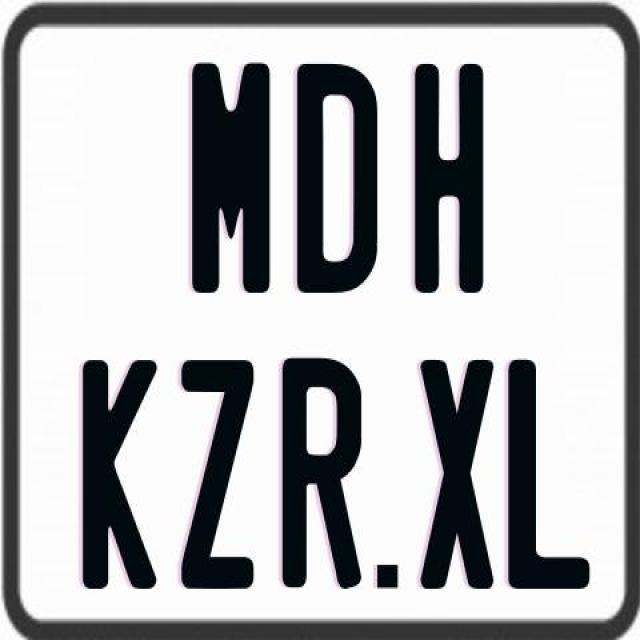D: (295, 64, 379, 299)
H: (413, 62, 487, 292)
K: (80, 360, 158, 590)
L: (507, 360, 591, 589)
M: (192, 62, 276, 300)
R: (280, 354, 358, 586)
X: (416, 355, 490, 584)
Z: (182, 359, 258, 594)
